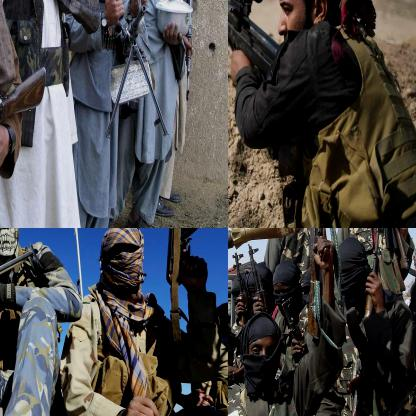rifle: (228, 228, 342, 309), (103, 0, 168, 141), (0, 241, 45, 393), (228, 0, 282, 88), (302, 228, 344, 337), (161, 228, 227, 283), (245, 242, 268, 312), (376, 228, 413, 270), (228, 253, 248, 314)
